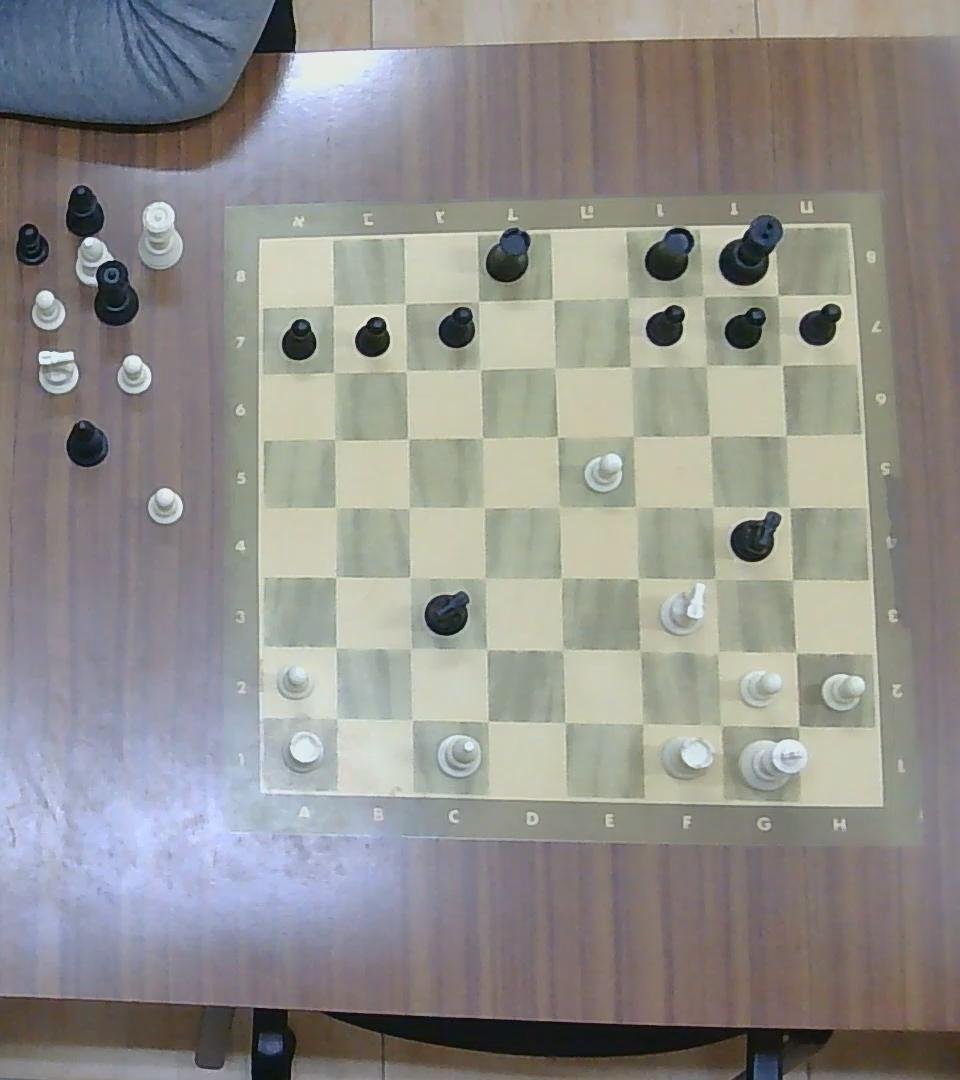xcorner: (624, 705, 658, 739), (702, 707, 737, 740), (781, 708, 813, 742), (701, 635, 734, 667), (624, 633, 655, 665), (548, 706, 579, 738), (547, 633, 578, 665), (470, 632, 501, 663), (320, 701, 351, 732), (780, 637, 811, 668), (470, 705, 502, 735), (395, 703, 425, 734), (699, 563, 729, 594), (622, 563, 652, 593), (547, 563, 577, 593), (470, 563, 500, 593), (394, 633, 424, 662), (320, 562, 350, 591), (776, 564, 806, 593), (615, 351, 645, 380), (622, 491, 651, 520), (698, 491, 727, 520), (394, 562, 423, 591), (775, 491, 804, 520), (320, 632, 350, 660), (545, 491, 573, 520), (466, 421, 495, 449), (619, 421, 648, 449), (470, 492, 498, 520), (395, 492, 423, 519), (543, 421, 571, 448), (320, 358, 348, 384), (323, 492, 349, 519), (696, 422, 723, 448), (615, 283, 641, 310), (540, 285, 566, 312), (693, 351, 720, 377), (393, 424, 421, 449), (322, 425, 348, 451), (393, 356, 418, 382), (541, 353, 567, 378), (768, 350, 794, 375), (467, 355, 492, 380), (773, 421, 798, 446), (465, 288, 491, 312), (691, 283, 715, 307), (393, 290, 417, 313), (767, 284, 789, 306), (321, 293, 343, 314)
